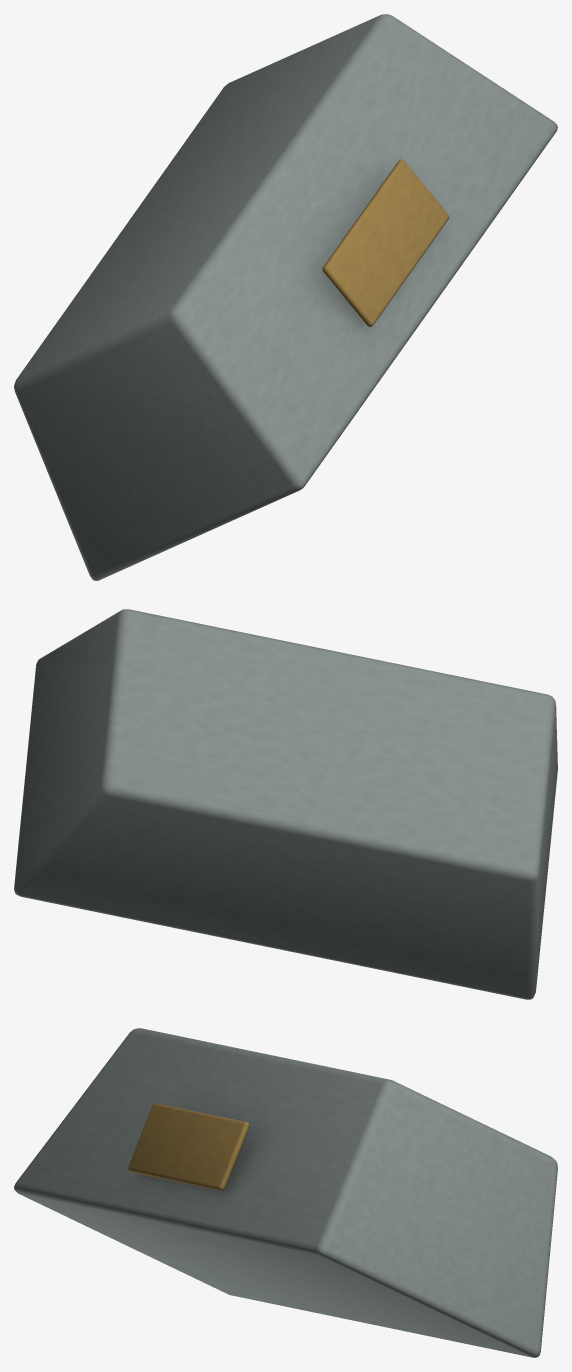
The picture shows the model from 3 angles, top to bottom: view 1: azimuth 30°, elevation 25°; view 2: azimuth 150°, elevation 25°; view 3: azimuth 270°, elevation 25°; orthographic projection. The views are drawn at different scales.
Parts seen in each view (by area): view 1: Tapered machined alloy ingot; view 2: Tapered machined alloy ingot; view 3: Tapered machined alloy ingot.
Boxes of the visible parts, x1,y1,x2,y2 form: Tapered machined alloy ingot: (14, 14, 557, 580); Tapered machined alloy ingot: (14, 609, 557, 999); Tapered machined alloy ingot: (14, 1028, 557, 1357).
Bounding box in the file's own units: 1.2 × 0.8548 × 1.1.
Materials: 1 (1 with a texture image).
